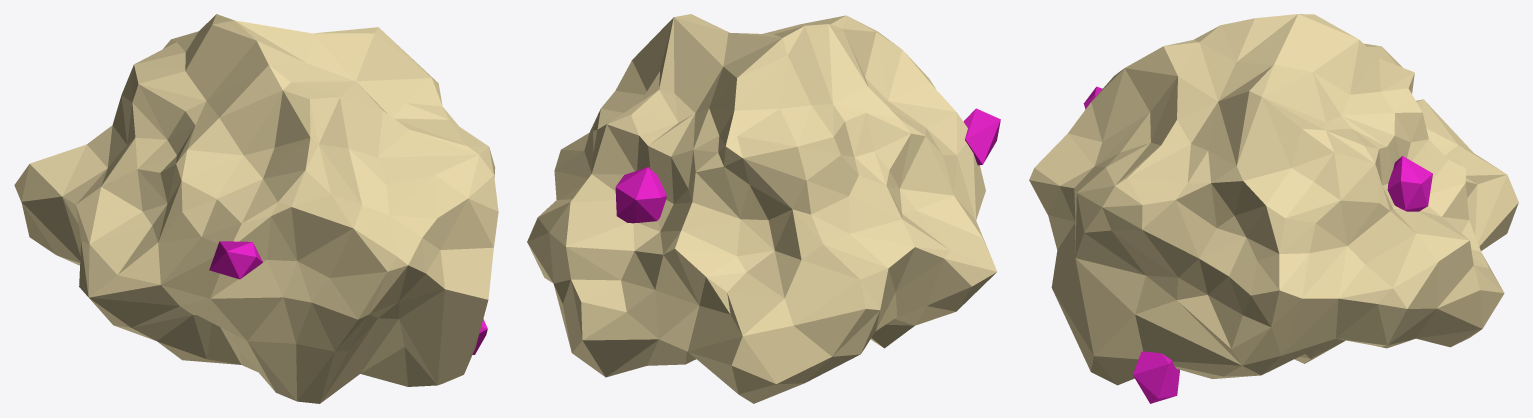
Rendered from CrystalOre (50).fbx.
The picture shows the model from 3 angles, left to right: view 1: azimuth 30°, elevation 25°; view 2: azimuth 150°, elevation 25°; view 3: azimuth 270°, elevation 25°; orthographic projection. The views are drawn at different scales.
Visible parts, largest first — view 1: Asteroid270; view 2: Asteroid270; view 3: Asteroid270.
Part boxes in pixels (box(x1,y1,x2,y2)): Asteroid270: box(14, 14, 498, 403); Asteroid270: box(527, 14, 1000, 403); Asteroid270: box(1029, 14, 1518, 403).
Size of the model in its own units: 363 by 277 by 389.
